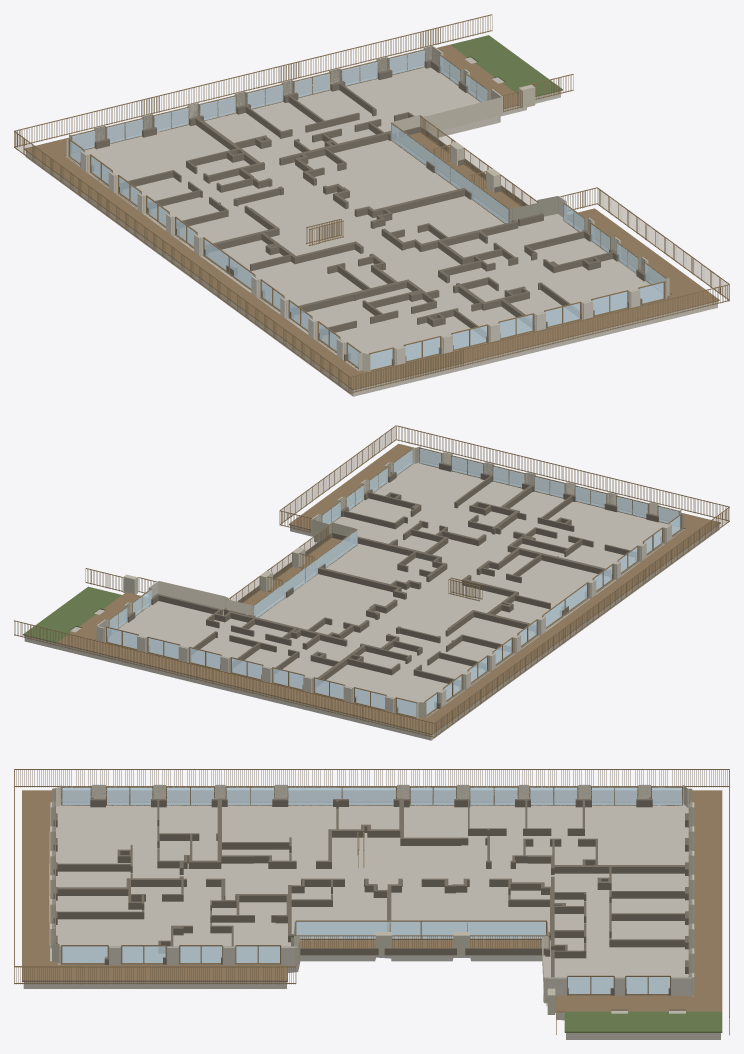
The picture shows the model from 3 angles, top to bottom: view 1: azimuth 30°, elevation 25°; view 2: azimuth 150°, elevation 25°; view 3: azimuth 270°, elevation 25°; orthographic projection. The views are drawn at different scales.
Bounding box in the file's own units: 31.49 × 1.57 × 38.36.
